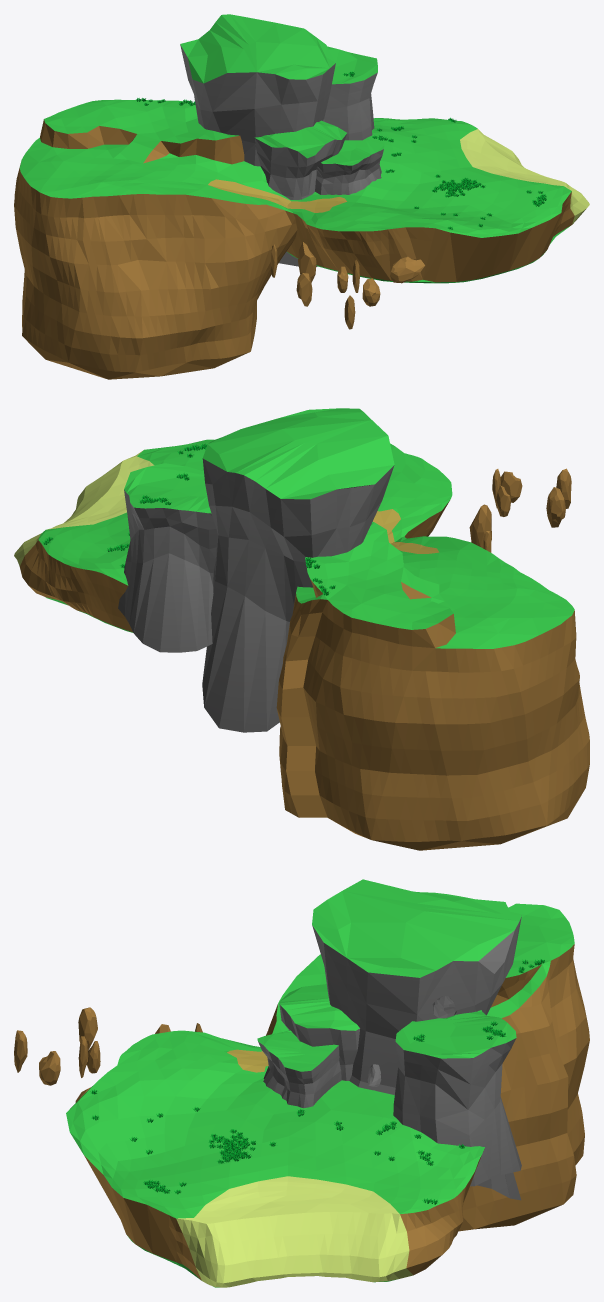
The model's file is island_test_path.glb.
3 renders of one model, top to bottom at view 1: azimuth 30°, elevation 25°; view 2: azimuth 150°, elevation 25°; view 3: azimuth 270°, elevation 25°, orthographic. The views are drawn at different scales.
Parts seen in each view (by area): view 1: Icosphere, main_island, Plane.016, Plane.018, Plane.020, reef, Plane.019, grass_bunch_joined.031; view 2: Icosphere, Plane.016, main_island, Plane.020, reef; view 3: main_island, Plane.016, Icosphere, Plane.020, Plane.019, Plane.018, reef, grass_bunch_joined.031.
Part boxes in pixels (box(x1,y1,x2,y2)): Icosphere: box(14, 99, 297, 379); main_island: box(286, 118, 589, 283); Plane.016: box(180, 14, 335, 266); Plane.018: box(254, 120, 347, 199); Plane.020: box(324, 46, 377, 140); reef: box(270, 242, 424, 329); Plane.019: box(315, 140, 384, 194); grass_bunch_joined.031: box(432, 177, 485, 197); Icosphere: box(276, 521, 589, 850); Plane.016: box(202, 408, 394, 732); main_island: box(14, 439, 452, 632); Plane.020: box(118, 463, 217, 652); reef: box(469, 468, 571, 552); main_island: box(66, 1030, 484, 1287); Plane.016: box(312, 879, 521, 1200); Icosphere: box(266, 892, 589, 1231); Plane.020: box(393, 1010, 521, 1186); Plane.019: box(257, 1030, 341, 1108); Plane.018: box(279, 984, 360, 1080); reef: box(14, 1007, 202, 1102); grass_bunch_joined.031: box(208, 1129, 255, 1163).
Size of what is drawn, in the model's own units: 65.02 by 35.53 by 52.87.
Materials: 123 (115 with a texture image).
